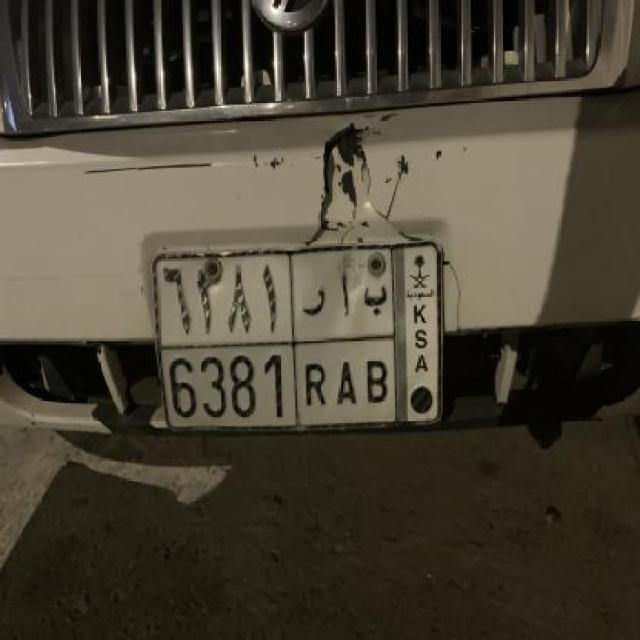license_plate: (149, 236, 448, 442)
